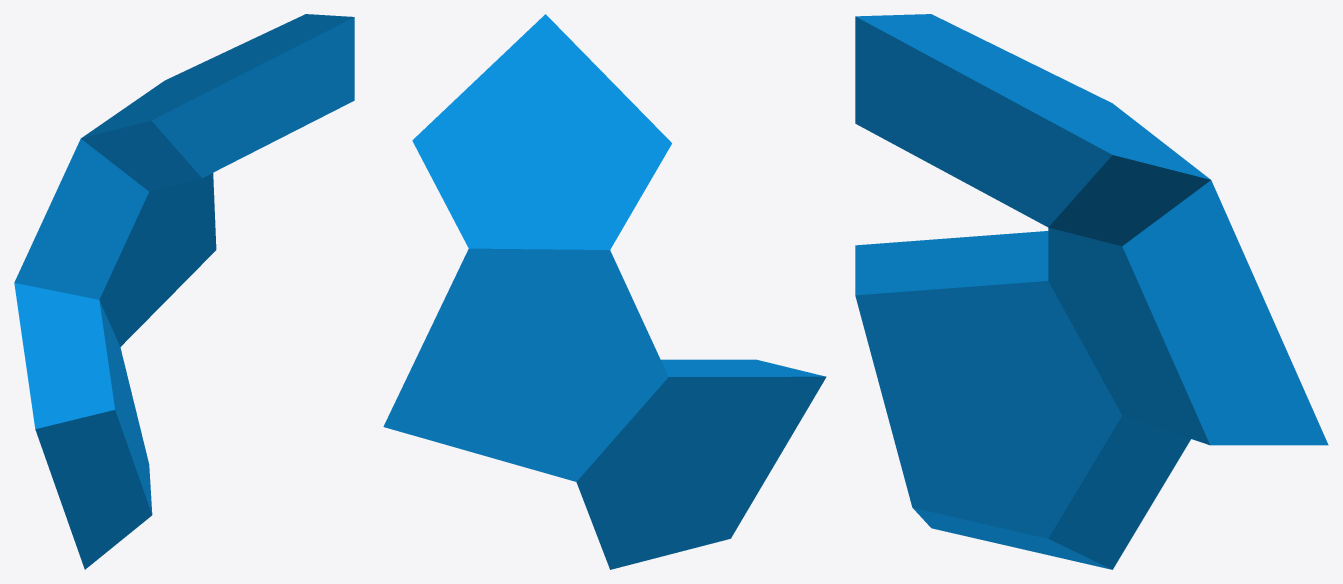
Rendered from piece2.glb.
The picture shows the model from 3 angles, left to right: view 1: azimuth 30°, elevation 25°; view 2: azimuth 150°, elevation 25°; view 3: azimuth 270°, elevation 25°; orthographic projection. The views are drawn at different scales.
Parts seen in each view (by area): view 1: piece_A_2; view 2: piece_A_2; view 3: piece_A_2.
Part boxes in pixels (x1,y1,x2,y2): piece_A_2: (14, 14, 354, 569); piece_A_2: (383, 14, 826, 569); piece_A_2: (855, 14, 1328, 569).
Size of the model in its own units: 2.66 by 3.54 by 2.29.
